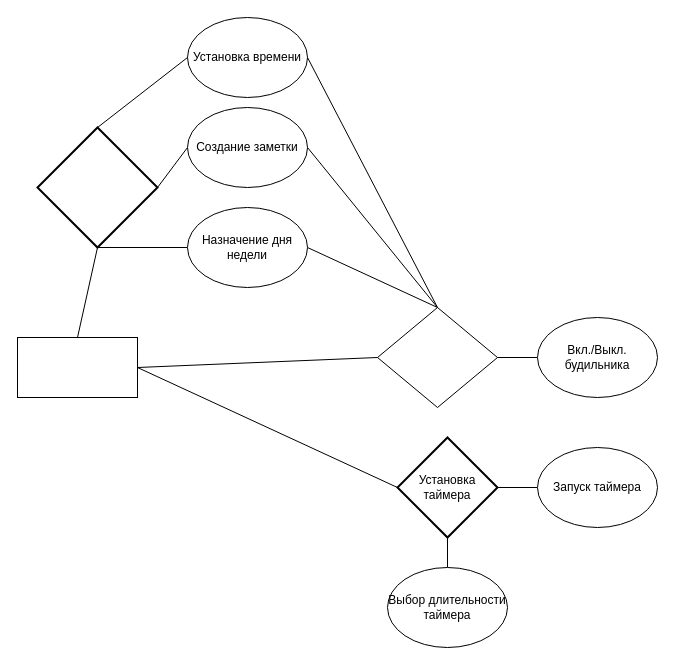
Some shapes in this 675 by 665 pixel diagram are drawn without their labels. The centre of each missing label's shape, as x and y in pixels:
"Настройка установленного будильника" belongs at [437,357].
"Пользователь" belongs at [77,367].
"Создание нового будильника" belongs at [97,187].
